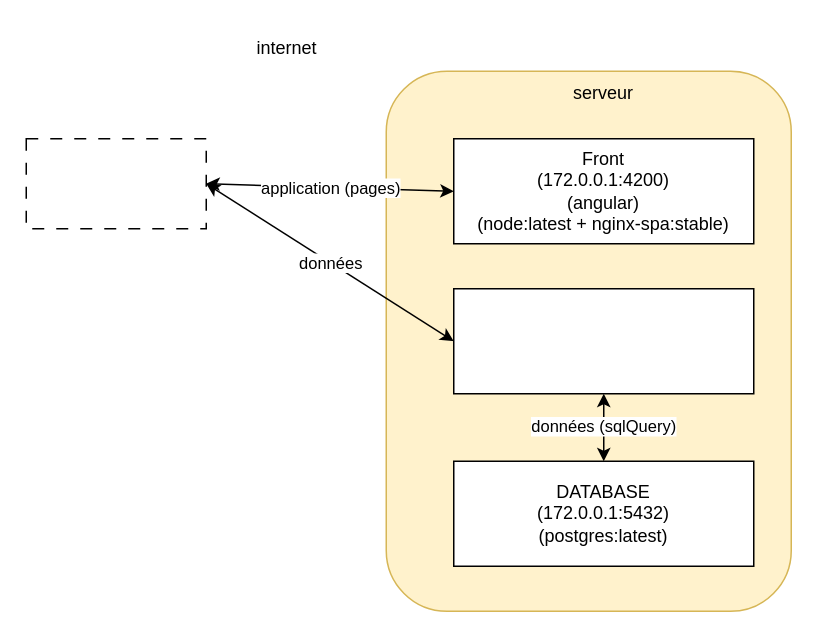
Image size: 818x638. Some labels were removed from this diagram. Each missing label, with the box of its shape:
API (172.0.0.1:8081) (php:apache-8): (452, 287, 754, 394)
client (navigateur): (25, 137, 206, 229)
